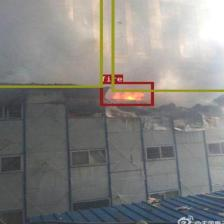fire: (100, 82, 152, 106)
smoke: (111, 0, 224, 91), (0, 0, 102, 87)
